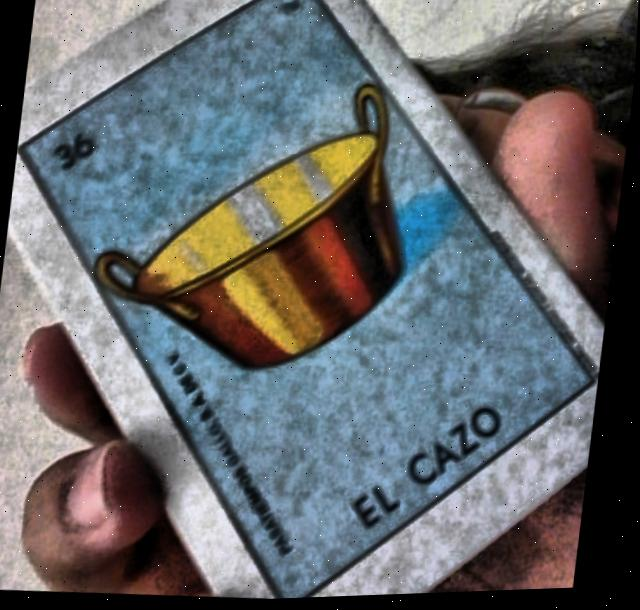El Cazo: (19, 0, 597, 601)
